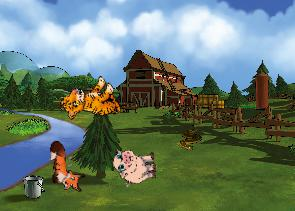fox: (48, 140, 85, 193)
pig: (112, 144, 158, 187)
tiger: (57, 69, 126, 136)
